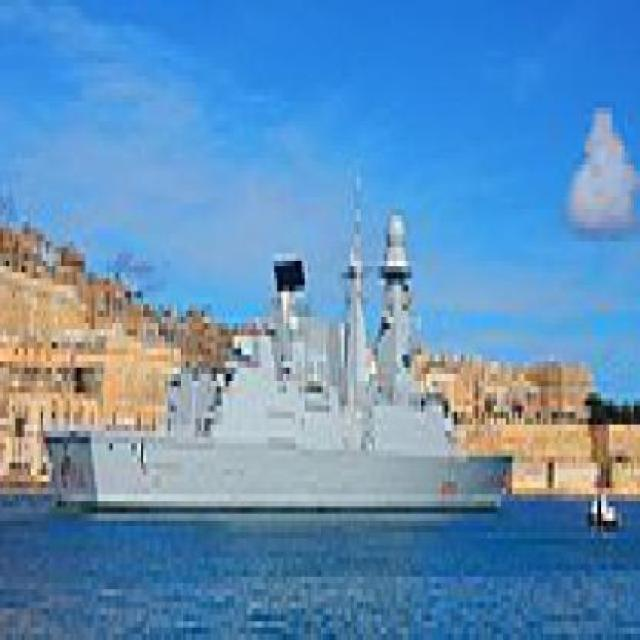warship2: (34, 160, 537, 527)
